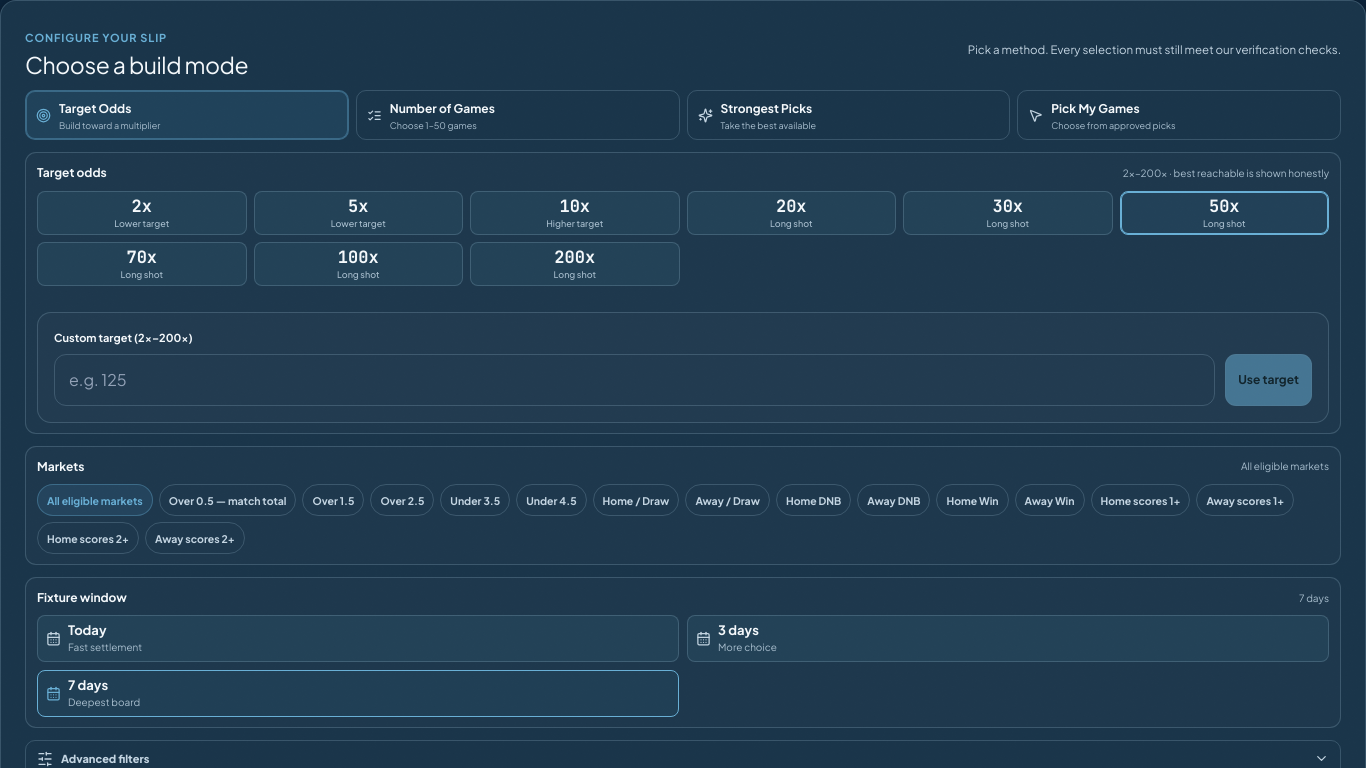
Test: custom target clears its draft after applying it
Type "125" into the number field labelled "Custom target (2x–200x)" at (635, 380), box [54, 354, 1215, 406]
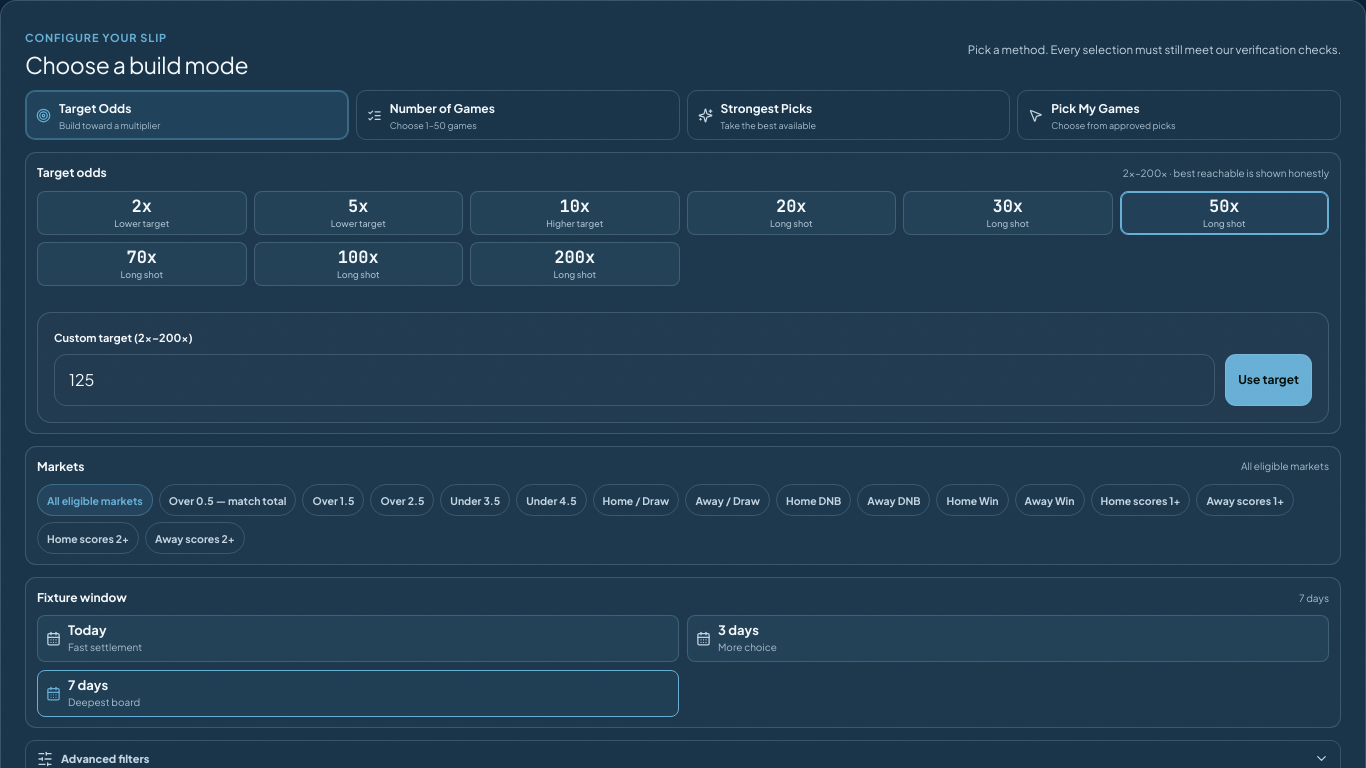
Click the button "Use target" at (1269, 380), box [1225, 354, 1312, 406]
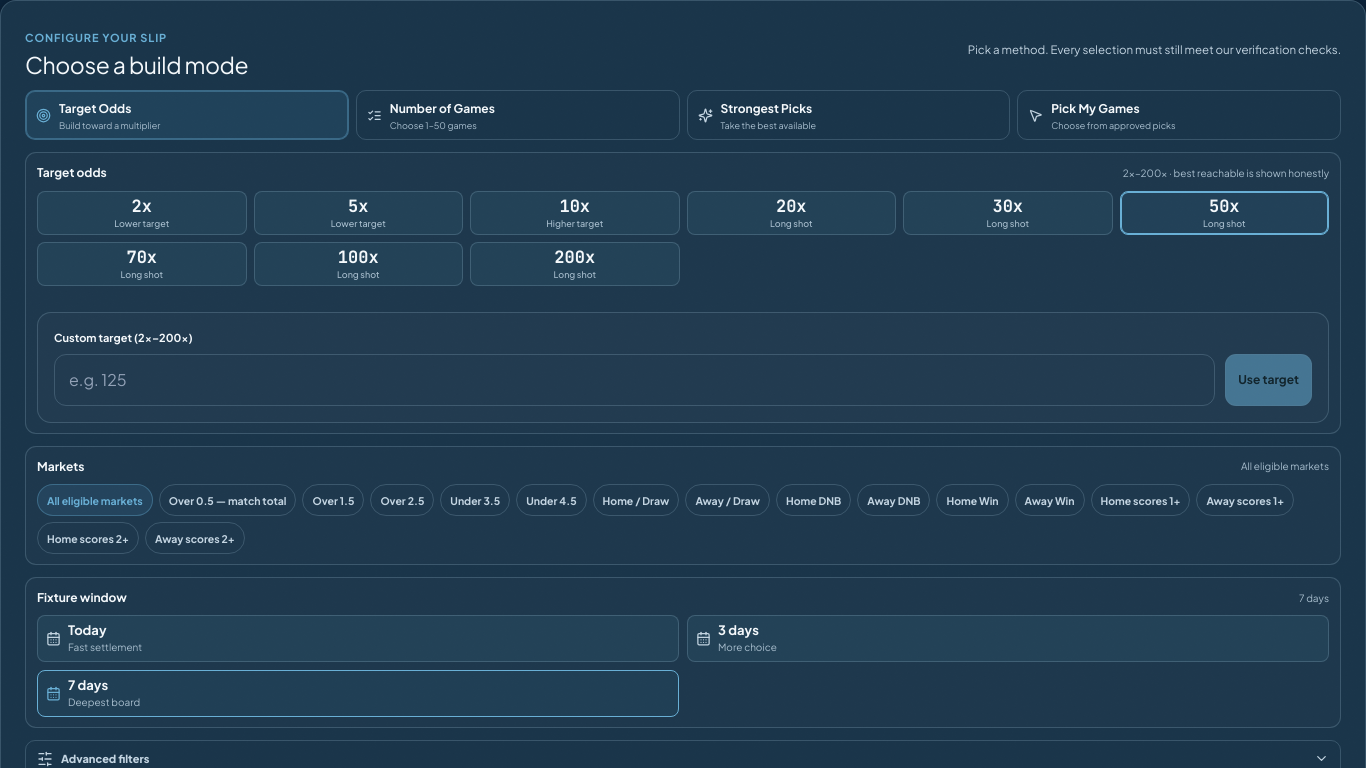
Expected: the number field labelled "Custom target (2x–200x)" is not empty, [54, 354, 1215, 406]
